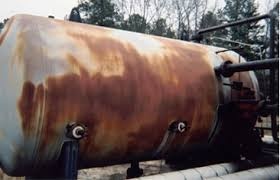rust: (17, 70, 223, 140), (75, 139, 197, 167), (213, 47, 256, 122), (167, 39, 210, 87), (78, 35, 141, 61), (118, 37, 152, 82)
